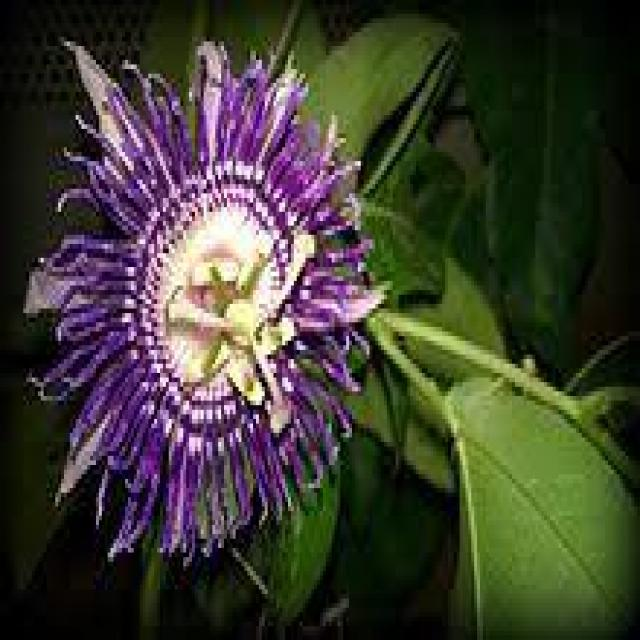organic waste: (25, 48, 385, 560)
